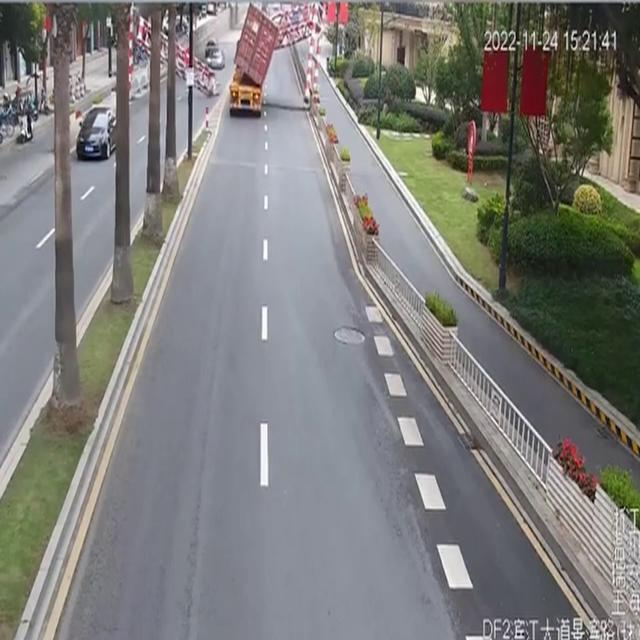accident: (226, 4, 284, 120)
